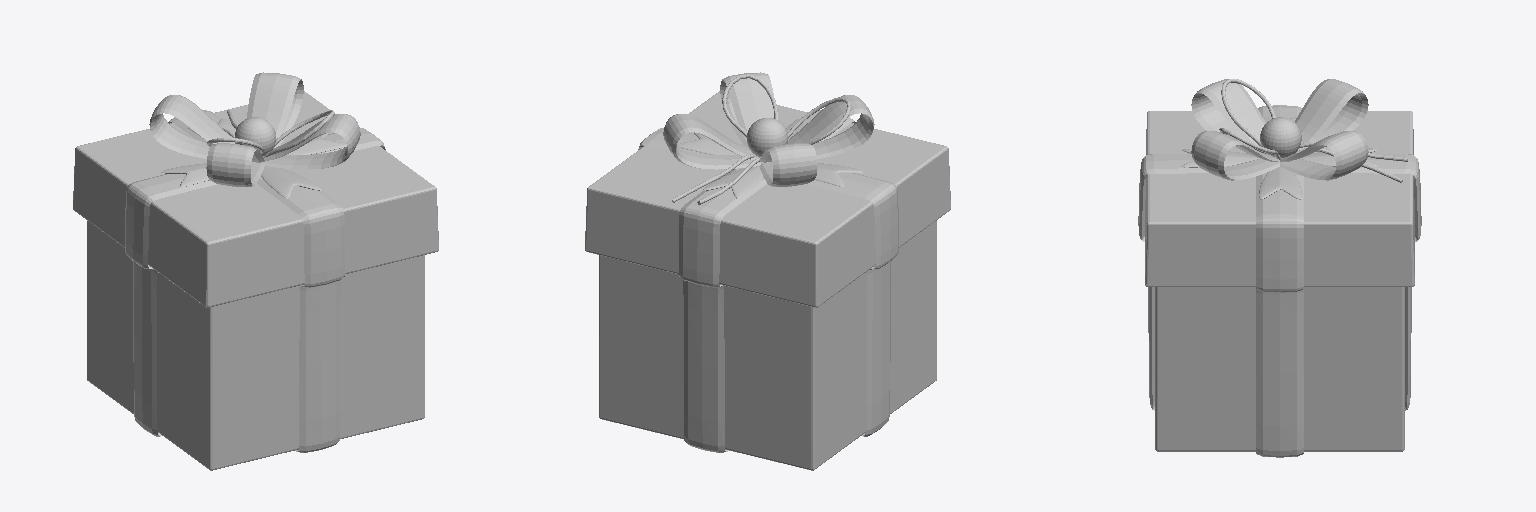
Rendered from giftbox.obj.
The picture shows the model from 3 angles: view 1: azimuth 30°, elevation 25°; view 2: azimuth 150°, elevation 25°; view 3: azimuth 270°, elevation 25°; orthographic projection.
Visible parts, largest first — view 1: Giftbox01_Cube.086, Giftbox02_Cube.001, Giftbox03_NurbsPath.006, Giftbox04_Plane.023, Giftbox05_NurbsPath.007, Giftbox06_Sphere; view 2: Giftbox01_Cube.086, Giftbox02_Cube.001, Giftbox03_NurbsPath.006, Giftbox04_Plane.023, Giftbox05_NurbsPath.007, Giftbox06_Sphere; view 3: Giftbox01_Cube.086, Giftbox02_Cube.001, Giftbox03_NurbsPath.006, Giftbox04_Plane.023, Giftbox05_NurbsPath.007, Giftbox06_Sphere.
Part boxes in pixels (bbox=[...]): Giftbox01_Cube.086: bbox=[73, 91, 438, 470]; Giftbox02_Cube.001: bbox=[125, 110, 385, 452]; Giftbox03_NurbsPath.006: bbox=[149, 72, 360, 186]; Giftbox04_Plane.023: bbox=[161, 119, 346, 198]; Giftbox05_NurbsPath.007: bbox=[207, 110, 334, 157]; Giftbox06_Sphere: bbox=[235, 117, 275, 155]; Giftbox01_Cube.086: bbox=[585, 91, 950, 470]; Giftbox02_Cube.001: bbox=[638, 110, 898, 452]; Giftbox03_NurbsPath.006: bbox=[663, 72, 874, 186]; Giftbox04_Plane.023: bbox=[677, 119, 862, 198]; Giftbox05_NurbsPath.007: bbox=[672, 74, 850, 204]; Giftbox06_Sphere: bbox=[747, 118, 788, 156]; Giftbox01_Cube.086: bbox=[1145, 111, 1414, 451]; Giftbox02_Cube.001: bbox=[1138, 105, 1421, 457]; Giftbox03_NurbsPath.006: bbox=[1191, 79, 1368, 180]; Giftbox04_Plane.023: bbox=[1182, 117, 1377, 199]; Giftbox05_NurbsPath.007: bbox=[1219, 79, 1407, 182]; Giftbox06_Sphere: bbox=[1260, 117, 1301, 157].
Size of the model in its own units: 2.27 by 2.66 by 2.27.